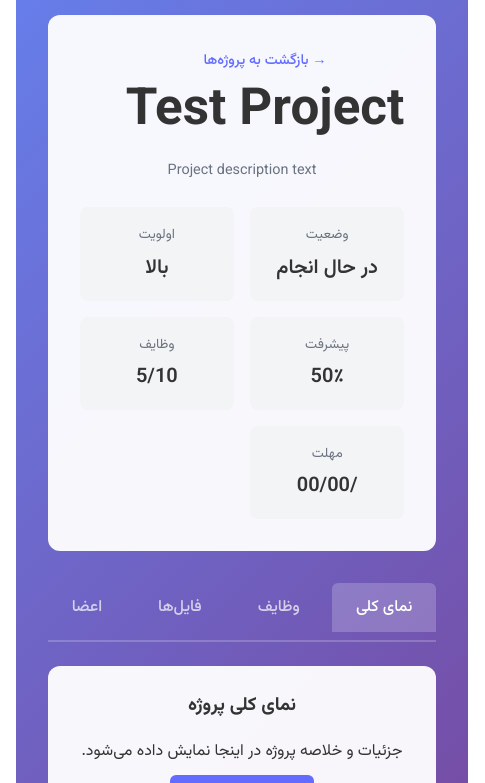
Test: ProjectDetail › displays owner name in members tab
Expected: the heading "Test Project" is shown, [126,82,404,143]
Click the button "اعضا" at (87, 607), box [48,583,126,632]
(page scrolled)
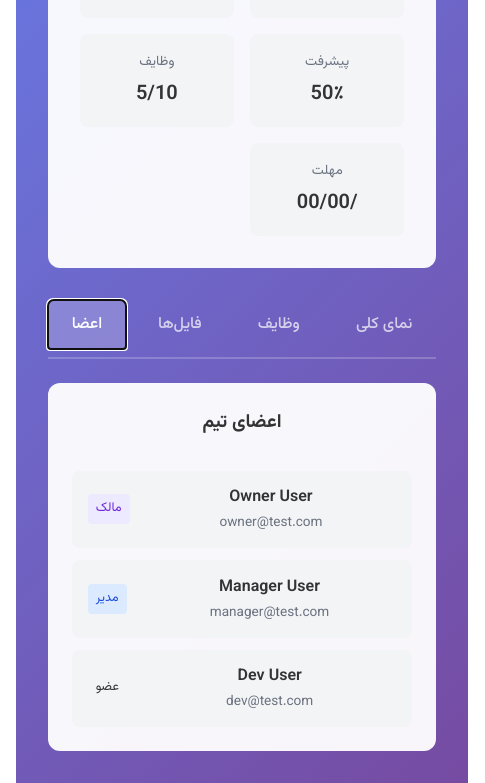
Now the text "Owner User" is shown, box [229,485,313,510]
